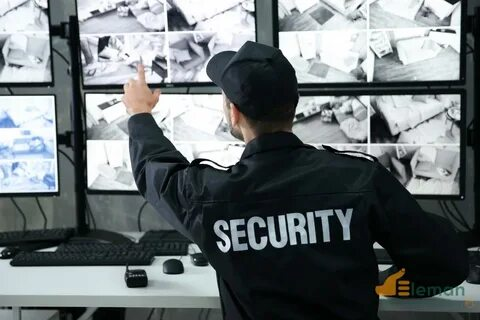awake: (173, 39, 411, 320)
